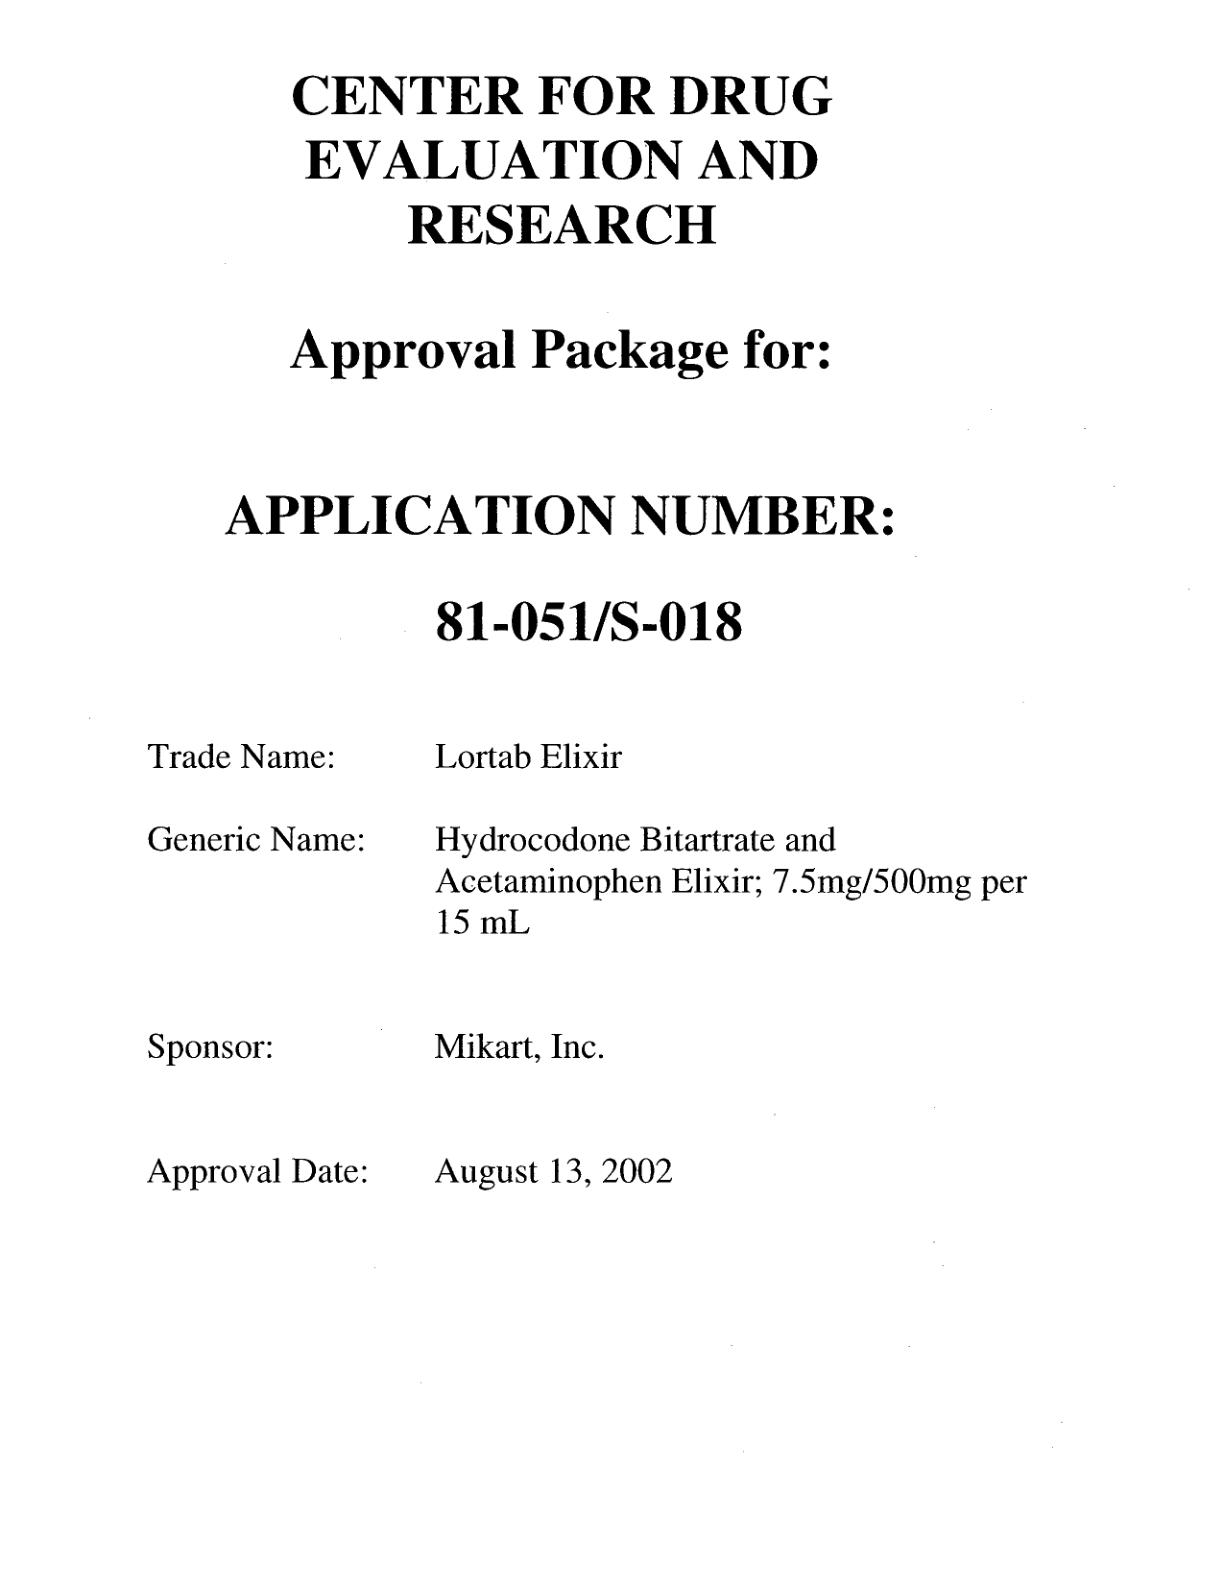nolines: (134, 726, 1047, 1206)
